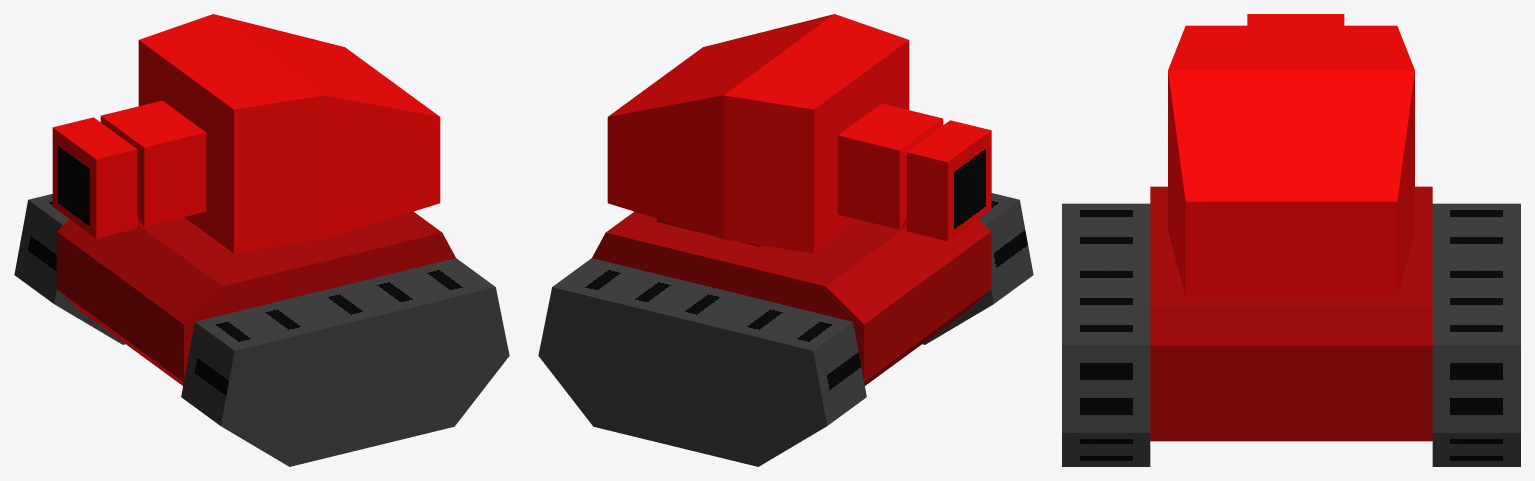
File: Tank.gltf
3 views of the same model, side by side, from view 1: azimuth 30°, elevation 25°; view 2: azimuth 150°, elevation 25°; view 3: azimuth 270°, elevation 25° (orthographic). The views are drawn at different scales.
Parts seen in each view (by area): view 1: muzzle, wheel (×2), body; view 2: muzzle, wheel (×2), body; view 3: muzzle, wheel (×2), body.
Boxes of the visible parts, x1=… form: muzzle: x1=52, y1=14, x2=440, y2=253; wheel (×2): x1=14, y1=194, x2=509, y2=466; body: x1=56, y1=211, x2=455, y2=385; muzzle: x1=607, y1=14, x2=991, y2=253; wheel (×2): x1=538, y1=193, x2=1033, y2=466; body: x1=592, y1=211, x2=991, y2=385; muzzle: x1=1168, y1=14, x2=1414, y2=297; wheel (×2): x1=1062, y1=203, x2=1520, y2=466; body: x1=1150, y1=186, x2=1432, y2=441.
Size of the model in its own units: 1.5 by 1.38 by 1.62.
Materials: 1 (1 with a texture image).
